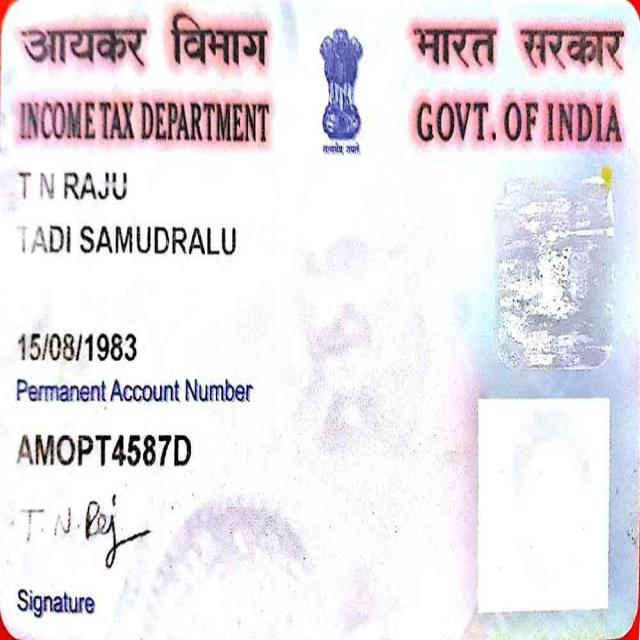pan_card: (3, 7, 638, 631)
